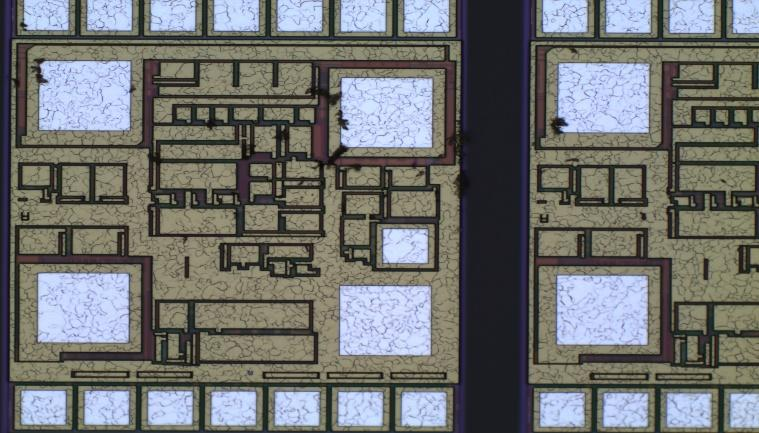PO CONTAMINATION: (152, 42, 733, 225)
